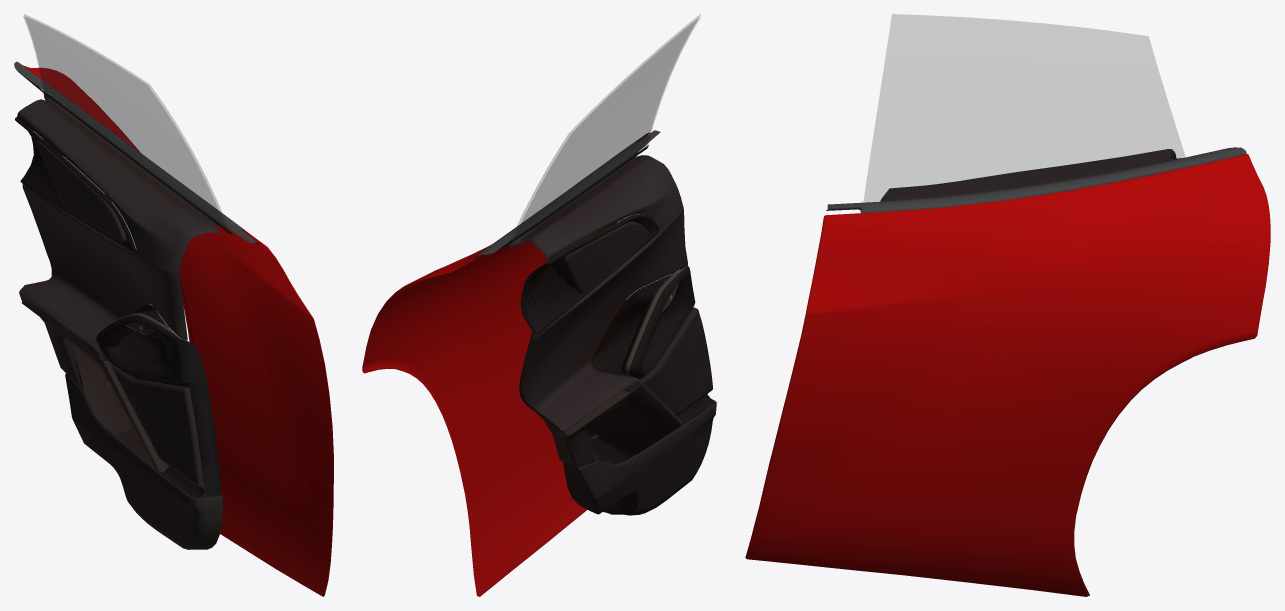
Rendered from door_lr.glb.
The picture shows the model from 3 angles, left to right: view 1: azimuth 30°, elevation 25°; view 2: azimuth 150°, elevation 25°; view 3: azimuth 270°, elevation 25°; orthographic projection. The views are drawn at different scales.
Visible parts, largest first — view 1: Carbon2_Geo_lodA_Ferrari_PurosangueRewardRecycled_2023Carbon, Paint_Geo_lodA_Ferrari_PurosangueRewardRecycled_2023Paint_Ma; view 2: Carbon2_Geo_lodA_Ferrari_PurosangueRewardRecycled_2023Carbon, Paint_Geo_lodA_Ferrari_PurosangueRewardRecycled_2023Paint_Ma; view 3: Paint_Geo_lodA_Ferrari_PurosangueRewardRecycled_2023Paint_Ma, Carbon2_Geo_lodA_Ferrari_PurosangueRewardRecycled_2023Carbon.
Boxes of the visible parts, bbox=[...] form: Carbon2_Geo_lodA_Ferrari_PurosangueRewardRecycled_2023Carbon: bbox=[15, 93, 222, 549]; Paint_Geo_lodA_Ferrari_PurosangueRewardRecycled_2023Paint_Ma: bbox=[14, 14, 333, 596]; Carbon2_Geo_lodA_Ferrari_PurosangueRewardRecycled_2023Carbon: bbox=[507, 155, 716, 515]; Paint_Geo_lodA_Ferrari_PurosangueRewardRecycled_2023Paint_Ma: bbox=[362, 14, 700, 596]; Paint_Geo_lodA_Ferrari_PurosangueRewardRecycled_2023Paint_Ma: bbox=[745, 14, 1270, 596]; Carbon2_Geo_lodA_Ferrari_PurosangueRewardRecycled_2023Carbon: bbox=[880, 149, 1182, 201].
Size of the model in its own units: 0.00342 by 0.0115 by 0.0104.
Materials: 8 (3 with a texture image).
